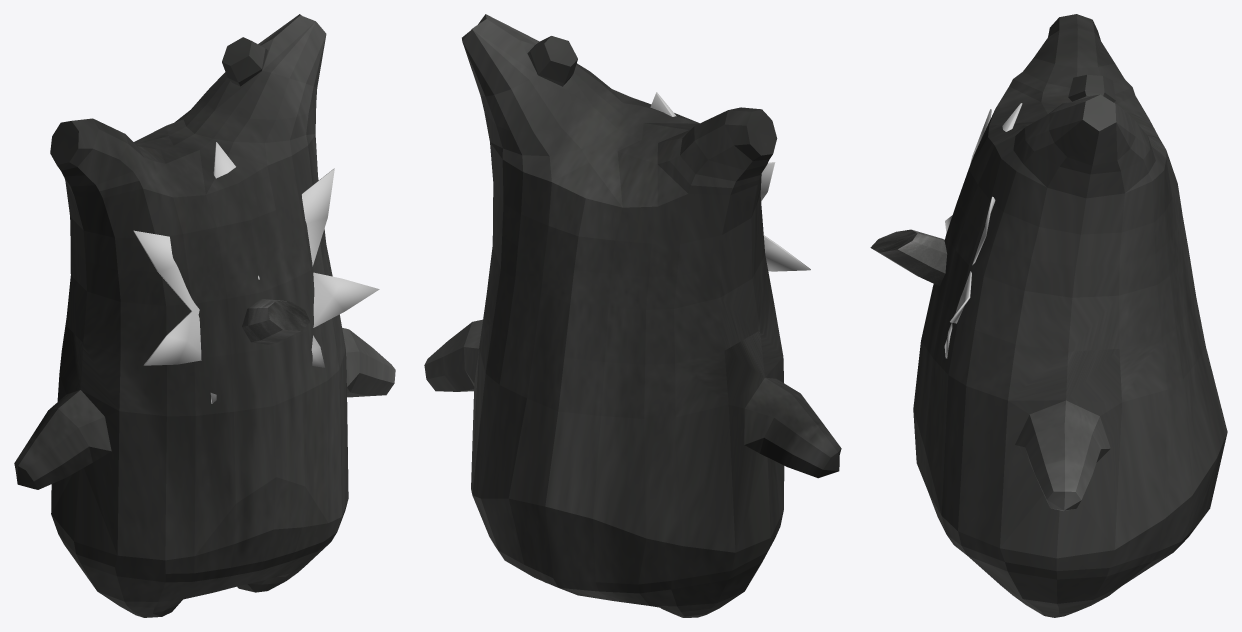
File: frame_0075.obj
The picture shows the model from 3 angles, left to right: view 1: azimuth 30°, elevation 25°; view 2: azimuth 150°, elevation 25°; view 3: azimuth 270°, elevation 25°; orthographic projection. The views are drawn at different scales.
Parts seen in each view (by area): view 1: korok, leaf.003_柱体.013, nose.003_柱体.011; view 2: korok, leaf.003_柱体.013; view 3: korok, nose.003_柱体.011, leaf.003_柱体.013.
Boxes of the visible parts, <box> form: korok: <box>14,14,395,617</box>; leaf.003_柱体.013: <box>133,142,379,403</box>; nose.003_柱体.011: <box>242,299,310,344</box>; korok: <box>424,14,841,617</box>; leaf.003_柱体.013: <box>650,92,810,271</box>; korok: <box>913,14,1227,617</box>; nose.003_柱体.011: <box>870,229,947,285</box>; leaf.003_柱体.013: <box>944,103,1022,358</box>.
Size of the model in its own units: 1.67 by 2.26 by 1.33.
